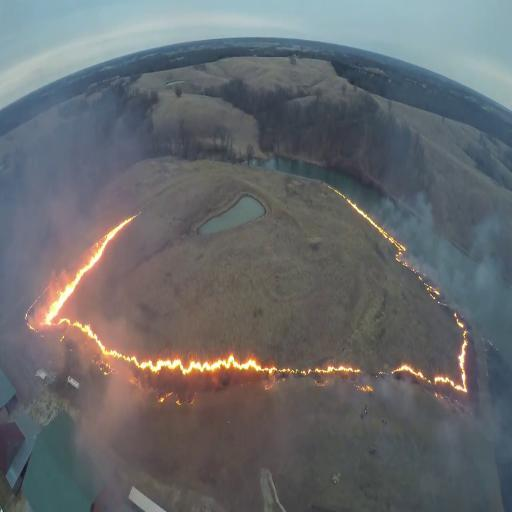fire: (26, 185, 473, 395)
smoke: (0, 100, 156, 509), (388, 200, 512, 334), (371, 372, 510, 462)
